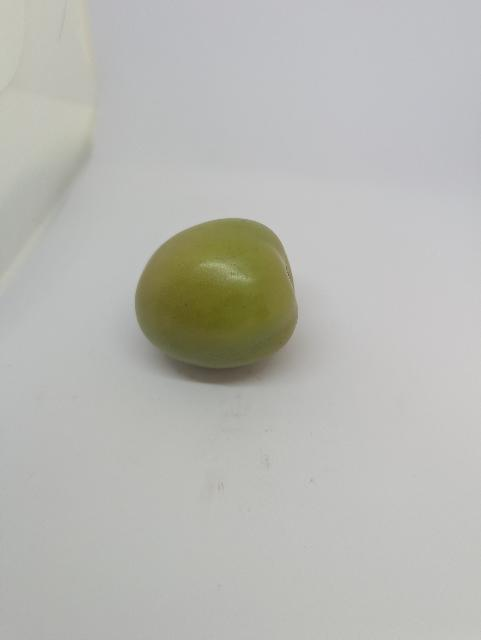green: (126, 214, 314, 372)
